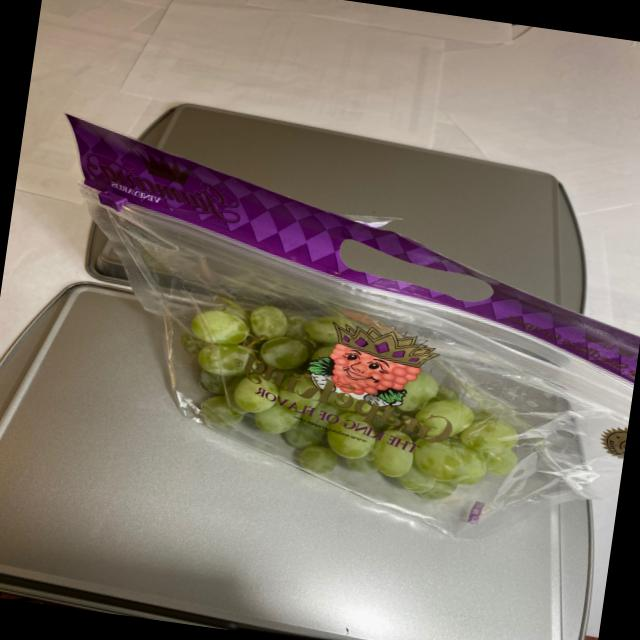grapes: (147, 282, 526, 520)
